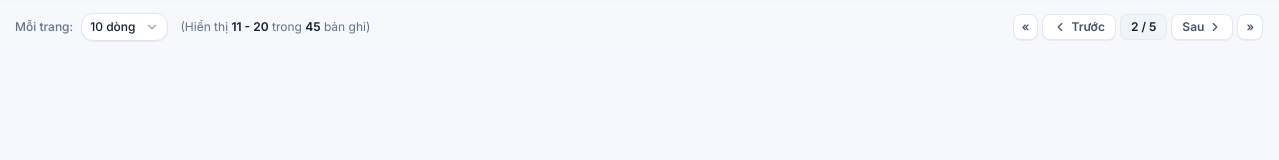
TablePagination component › handles next and previous page changes
Expected: the text "2 / 5" is shown, [1120,14,1167,40]
# Click next page
Click the button "Sau".
click(1202, 27)  # box [1171,14,1233,40]
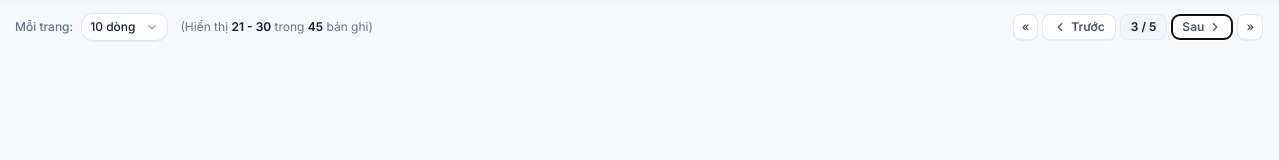
Expected: the text "3 / 5" is shown, [1120,14,1167,40]
# Click previous page
Click the button "Trước".
click(1079, 27)  # box [1042,14,1116,40]
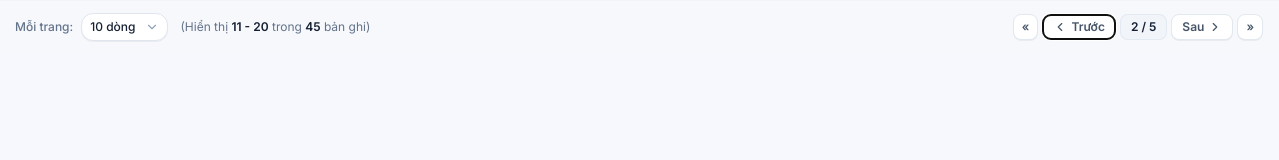
Expected: the text "2 / 5" is shown, [1120,14,1167,40]
